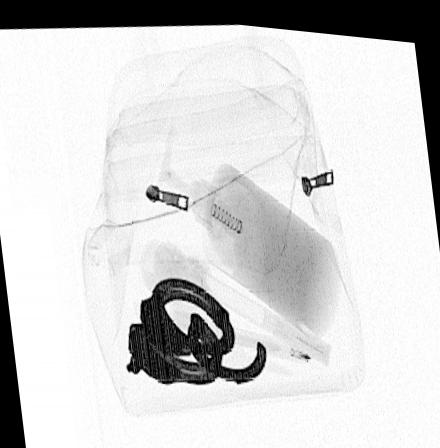HandCuffs: (123, 273, 267, 385)
